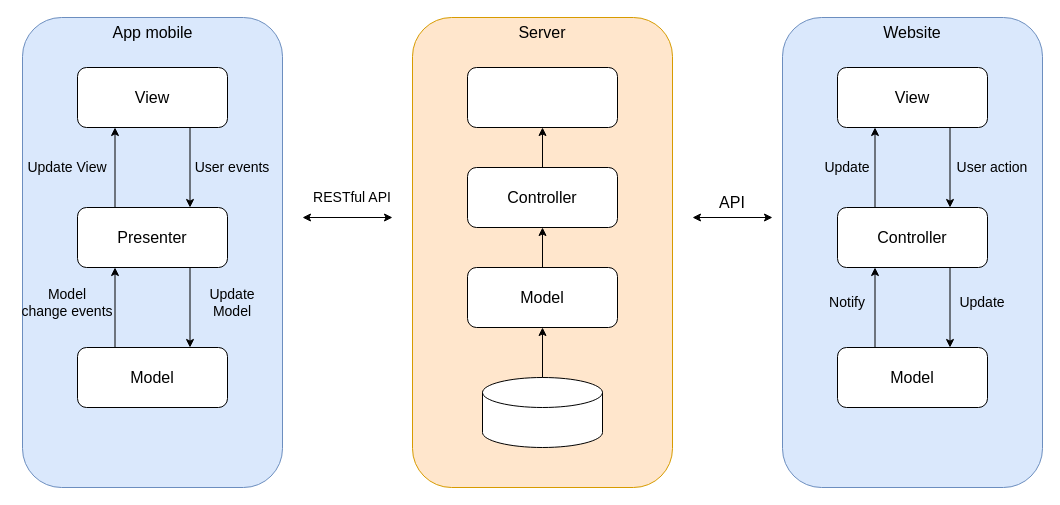
The diagram is 1060 pixels wide and 505 high, and some of its shapes have lost their labels. Each missing label, with the centre of its shape:
"MySQL" goes at [542,412].
"Router" goes at [542,97].
